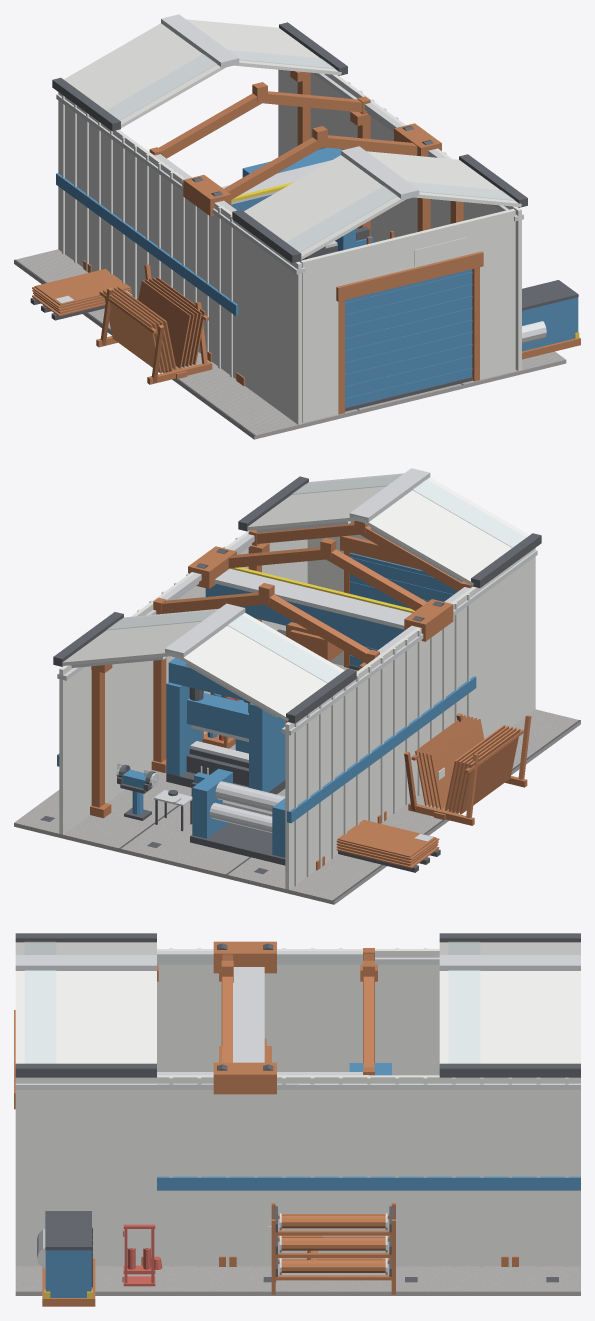
The model's file is shipyard-and-dry-dock-shipyard-and-dry-dock-plate-shop-b90eef2b__37972.glb.
3 renders of one model, top to bottom at view 1: azimuth 30°, elevation 25°; view 2: azimuth 150°, elevation 25°; view 3: azimuth 270°, elevation 25°, orthographic. The views are drawn at different scales.
Parts seen in each view (by area): view 1: 015-shipyard-and-dry-dock-fabrication-shed-door-bay/1, 015-shipyard-and-dry-dock-fabrication-shed-door-bay/roller-d (×2), 016-shipyard-and-dry-dock-shed-roof-section/0, 017-shipyard-and-dry-dock-shed-roof-section/0, 012-shipyard-and-dry-dock-fabrication-shed-bay/1, 013-shipyard-and-dry-dock-fabrication-shed-bay/1, 014-shipyard-and-dry-dock-fabrication-shed-bay/1, 029-shipyard-and-dry-dock-plate-rack/0, 015-shipyard-and-dry-dock-fabrication-shed-door-bay/0, 013-shipyard-and-dry-dock-fabrication-shed-bay/0, 014-shipyard-and-dry-dock-fabrication-shed-bay/0, 003-shipyard-and-dry-dock-yard-apron-slab/0 (+23 smaller); view 2: 012-shipyard-and-dry-dock-fabrication-shed-bay/1, 017-shipyard-and-dry-dock-shed-roof-section/0, 016-shipyard-and-dry-dock-shed-roof-section/0, 013-shipyard-and-dry-dock-fabrication-shed-bay/1, 015-shipyard-and-dry-dock-fabrication-shed-door-bay/1, 029-shipyard-and-dry-dock-plate-rack/0, 014-shipyard-and-dry-dock-fabrication-shed-bay/1, 020-shipyard-and-dry-dock-press-brake/1, 013-shipyard-and-dry-dock-fabrication-shed-bay/0, 018-shipyard-and-dry-dock-overhead-travelling-crane/0, 008-shipyard-and-dry-dock-yard-apron-slab/0, 015-shipyard-and-dry-dock-fabrication-shed-door-bay/0 (+31 smaller); view 3: 013-shipyard-and-dry-dock-fabrication-shed-bay/1, 014-shipyard-and-dry-dock-fabrication-shed-bay/1, 012-shipyard-and-dry-dock-fabrication-shed-bay/1, 015-shipyard-and-dry-dock-fabrication-shed-door-bay/1, 016-shipyard-and-dry-dock-shed-roof-section/0, 017-shipyard-and-dry-dock-shed-roof-section/0, 030-shipyard-and-dry-dock-pipe-spool-rack/0, 018-shipyard-and-dry-dock-overhead-travelling-crane/0, 008-shipyard-and-dry-dock-yard-apron-slab/0, 010-shipyard-and-dry-dock-yard-apron-slab/0, 018-shipyard-and-dry-dock-overhead-travelling-crane/1, 016-shipyard-and-dry-dock-shed-roof-section/1 (+21 smaller).
Part boxes in pixels (x1=…): 015-shipyard-and-dry-dock-fabrication-shed-door-bay/1: x1=238, y1=202, x2=521, y2=424; 015-shipyard-and-dry-dock-fabrication-shed-door-bay/roller-d (×2): x1=345, y1=269, x2=472, y2=411; 016-shipyard-and-dry-dock-shed-roof-section/0: x1=64, y1=19, x2=341, y2=128; 017-shipyard-and-dry-dock-shed-roof-section/0: x1=244, y1=151, x2=521, y2=259; 012-shipyard-and-dry-dock-fabrication-shed-bay/1: x1=58, y1=69, x2=341, y2=277; 013-shipyard-and-dry-dock-fabrication-shed-bay/1: x1=118, y1=78, x2=401, y2=299; 014-shipyard-and-dry-dock-fabrication-shed-bay/1: x1=178, y1=122, x2=451, y2=379; 029-shipyard-and-dry-dock-plate-rack/0: x1=96, y1=264, x2=212, y2=384; 015-shipyard-and-dry-dock-fabrication-shed-door-bay/0: x1=236, y1=201, x2=483, y2=414; 013-shipyard-and-dry-dock-fabrication-shed-bay/0: x1=149, y1=82, x2=370, y2=235; 014-shipyard-and-dry-dock-fabrication-shed-bay/0: x1=207, y1=126, x2=430, y2=361; 003-shipyard-and-dry-dock-yard-apron-slab/0: x1=194, y1=381, x2=358, y2=439; 012-shipyard-and-dry-dock-fabrication-shed-bay/1: x1=59, y1=663, x2=350, y2=889; 017-shipyard-and-dry-dock-shed-roof-section/0: x1=247, y1=473, x2=529, y2=585; 016-shipyard-and-dry-dock-shed-roof-section/0: x1=62, y1=608, x2=344, y2=721; 013-shipyard-and-dry-dock-fabrication-shed-bay/1: x1=124, y1=579, x2=412, y2=828; 015-shipyard-and-dry-dock-fabrication-shed-door-bay/1: x1=245, y1=521, x2=535, y2=738; 029-shipyard-and-dry-dock-plate-rack/0: x1=404, y1=713, x2=531, y2=825; 014-shipyard-and-dry-dock-fabrication-shed-bay/1: x1=183, y1=533, x2=473, y2=796; 020-shipyard-and-dry-dock-press-brake/1: x1=166, y1=657, x2=285, y2=792; 013-shipyard-and-dry-dock-fabrication-shed-bay/0: x1=151, y1=583, x2=386, y2=823; 018-shipyard-and-dry-dock-overhead-travelling-crane/0: x1=161, y1=534, x2=472, y2=656; 008-shipyard-and-dry-dock-yard-apron-slab/0: x1=14, y1=789, x2=177, y2=852; 015-shipyard-and-dry-dock-fabrication-shed-door-bay/0: x1=248, y1=521, x2=472, y2=668; 013-shipyard-and-dry-dock-fabrication-shed-bay/1: x1=298, y1=948, x2=439, y2=1267; 014-shipyard-and-dry-dock-fabrication-shed-bay/1: x1=157, y1=948, x2=298, y2=1267; 012-shipyard-and-dry-dock-fabrication-shed-bay/1: x1=439, y1=1077, x2=580, y2=1267; 015-shipyard-and-dry-dock-fabrication-shed-door-bay/1: x1=15, y1=1077, x2=156, y2=1266; 016-shipyard-and-dry-dock-shed-roof-section/0: x1=439, y1=942, x2=580, y2=1063; 017-shipyard-and-dry-dock-shed-roof-section/0: x1=15, y1=942, x2=156, y2=1063; 030-shipyard-and-dry-dock-pipe-spool-rack/0: x1=271, y1=1203, x2=395, y2=1294; 018-shipyard-and-dry-dock-overhead-travelling-crane/0: x1=157, y1=951, x2=368, y2=1075; 008-shipyard-and-dry-dock-yard-apron-slab/0: x1=439, y1=1266, x2=580, y2=1295; 010-shipyard-and-dry-dock-yard-apron-slab/0: x1=157, y1=1266, x2=298, y2=1295; 018-shipyard-and-dry-dock-overhead-travelling-crane/1: x1=213, y1=941, x2=276, y2=1094; 016-shipyard-and-dry-dock-shed-roof-section/1: x1=448, y1=941, x2=480, y2=1063.
Bounding box in the file's own units: 14.2 × 7.69 × 16.05.
10 materials, 1 textured.
